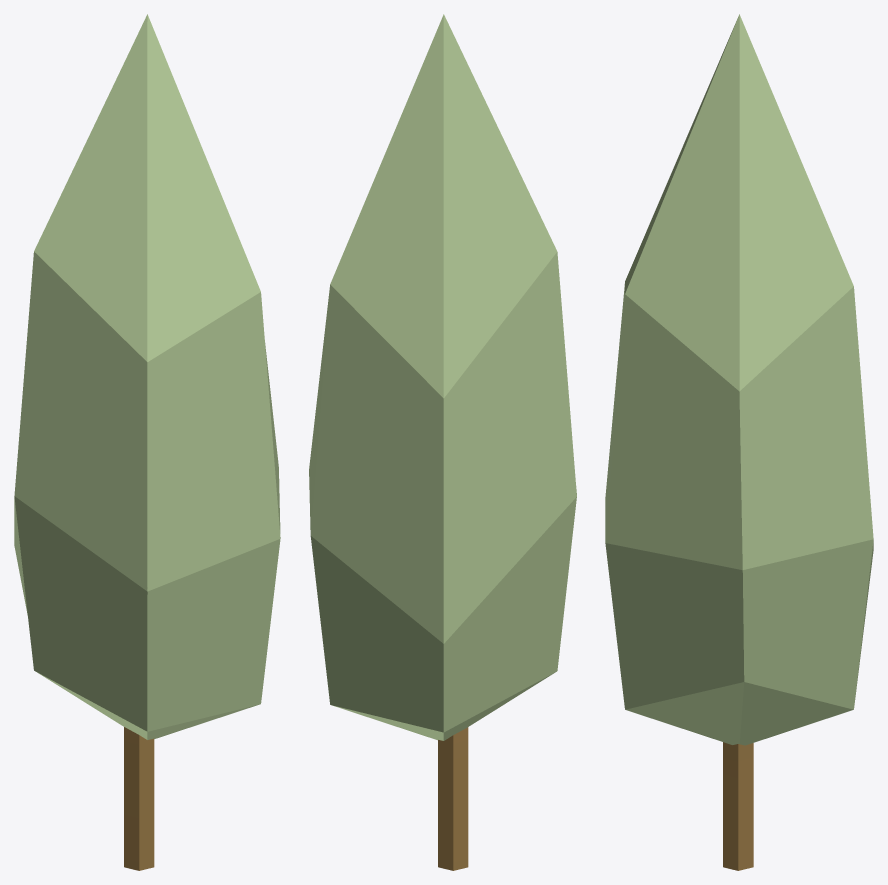
The model's file is Tree_Normal_4.fbx.
3 views of the same model, side by side, from view 1: azimuth 30°, elevation 25°; view 2: azimuth 150°, elevation 25°; view 3: azimuth 270°, elevation 25° (orthographic).
Visible parts, largest first — view 1: polySurface2089, polySurface2090; view 2: polySurface2089, polySurface2090; view 3: polySurface2089, polySurface2090.
Boxes of the visible parts, bbox=[...] form: polySurface2089: bbox=[14, 14, 280, 739]; polySurface2090: bbox=[124, 727, 154, 870]; polySurface2089: bbox=[309, 14, 576, 740]; polySurface2090: bbox=[438, 727, 468, 870]; polySurface2089: bbox=[605, 14, 873, 745]; polySurface2090: bbox=[723, 742, 753, 870].
Bounding box in the file's own units: 4.98 × 15.15 × 4.31.
